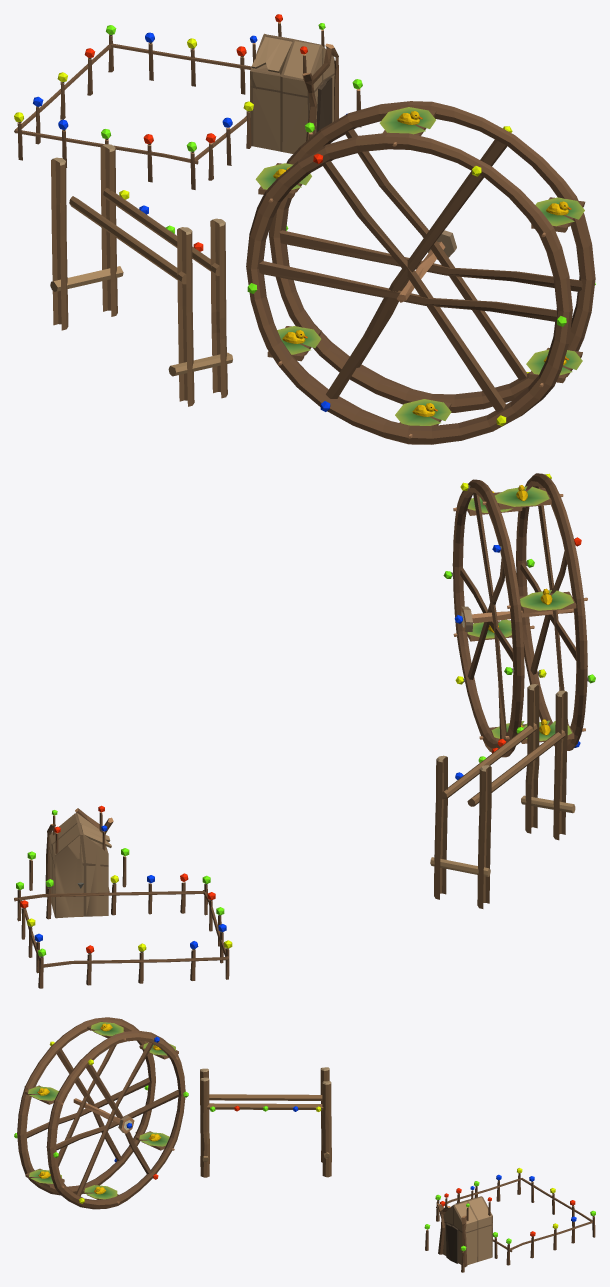
3 renders of one model, top to bottom at view 1: azimuth 30°, elevation 25°; view 2: azimuth 150°, elevation 25°; view 3: azimuth 270°, elevation 25°, orthographic. The views are drawn at different scales.
Visible parts, largest first — view 1: ferrisWheelWheel, nestStage_31, ducklingsFerrisWheel.003, ducklingsFerrisWheel, ducklingsFerrisWheel.004, ducklingsFerrisWheel.001, ducklingsFerrisWheel.005, ducklingsFerrisWheel.002; view 2: nestStage_31, ferrisWheelWheel, ducklingsFerrisWheel.002, ducklingsFerrisWheel.003; view 3: ferrisWheelWheel, nestStage_31, ducklingsFerrisWheel.001, ducklingsFerrisWheel.004, ducklingsFerrisWheel.003, ducklingsFerrisWheel, ducklingsFerrisWheel.005.
Boxes of the visible parts, x1=… form: ferrisWheelWheel: x1=246, y1=101, x2=595, y2=444; nestStage_31: x1=14, y1=14, x2=362, y2=406; ducklingsFerrisWheel.003: x1=379, y1=107, x2=436, y2=146; ducklingsFerrisWheel: x1=395, y1=399, x2=451, y2=438; ducklingsFerrisWheel.004: x1=531, y1=197, x2=585, y2=237; ducklingsFerrisWheel.001: x1=267, y1=326, x2=321, y2=365; ducklingsFerrisWheel.005: x1=526, y1=347, x2=582, y2=387; ducklingsFerrisWheel.002: x1=255, y1=163, x2=311, y2=202; nestStage_31: x1=14, y1=684, x2=575, y2=988; ferrisWheelWheel: x1=443, y1=473, x2=595, y2=757; ducklingsFerrisWheel.002: x1=507, y1=588, x2=587, y2=613; ducklingsFerrisWheel.003: x1=482, y1=485, x2=563, y2=509; ferrisWheelWheel: x1=14, y1=1017, x2=188, y2=1209; nestStage_31: x1=200, y1=1067, x2=595, y2=1272; ducklingsFerrisWheel.001: x1=135, y1=1131, x2=174, y2=1150; ducklingsFerrisWheel.004: x1=24, y1=1085, x2=63, y2=1104; ducklingsFerrisWheel.003: x1=87, y1=1021, x2=125, y2=1040; ducklingsFerrisWheel: x1=82, y1=1184, x2=119, y2=1203; ducklingsFerrisWheel.005: x1=25, y1=1168, x2=64, y2=1187.
Bounding box in the file's own units: 5.64 × 4.05 × 11.85.
